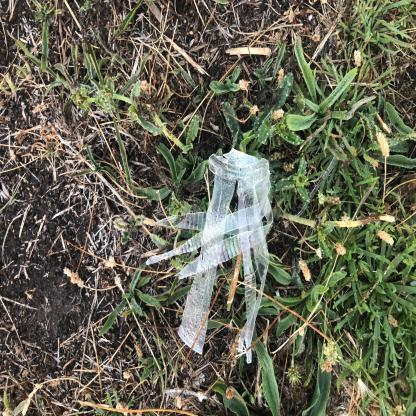trash: (34, 187, 212, 370)
